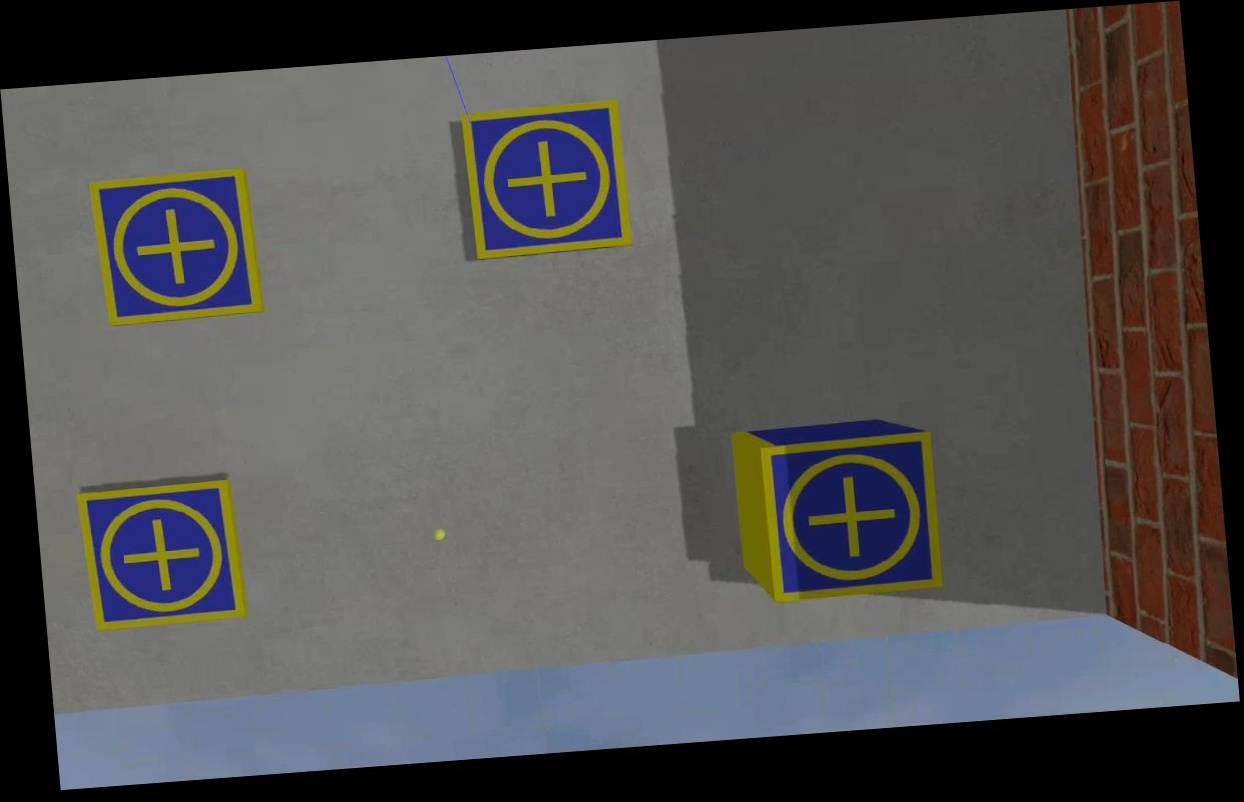small_base: (756, 431, 946, 606), (88, 168, 267, 325), (458, 100, 632, 261), (76, 474, 249, 634)
